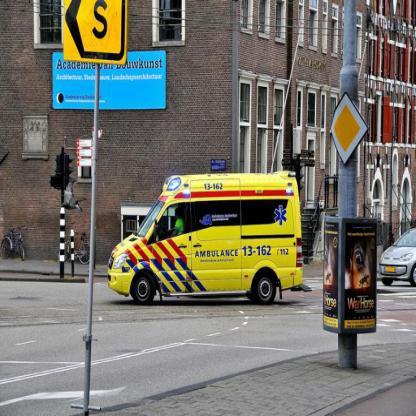Ambulance - v1 Ambulance last generate: (103, 170, 303, 303)
